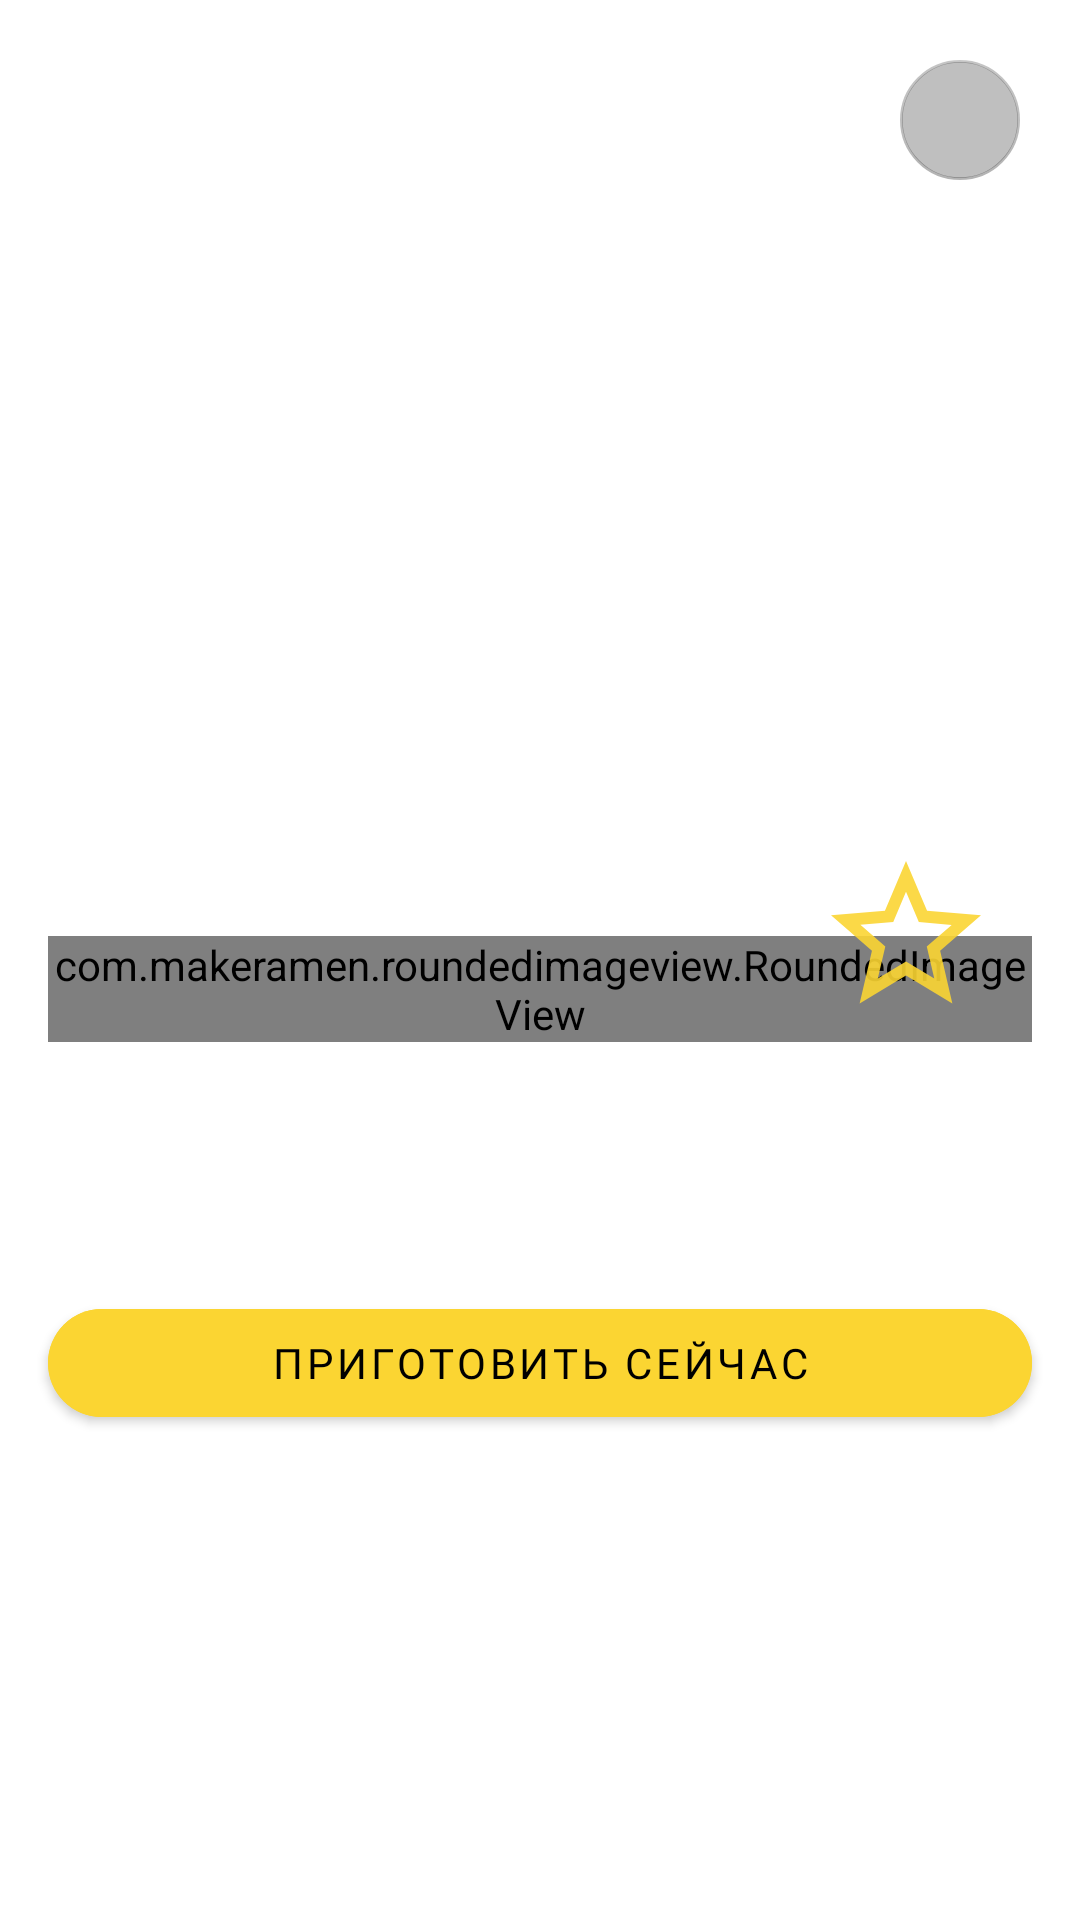

Where icons sit on this 1080 x 1920 app screen, as (x1, y1, x2, y2):
Добавить в избранное/ Убрать: (792, 861, 1032, 1042)
